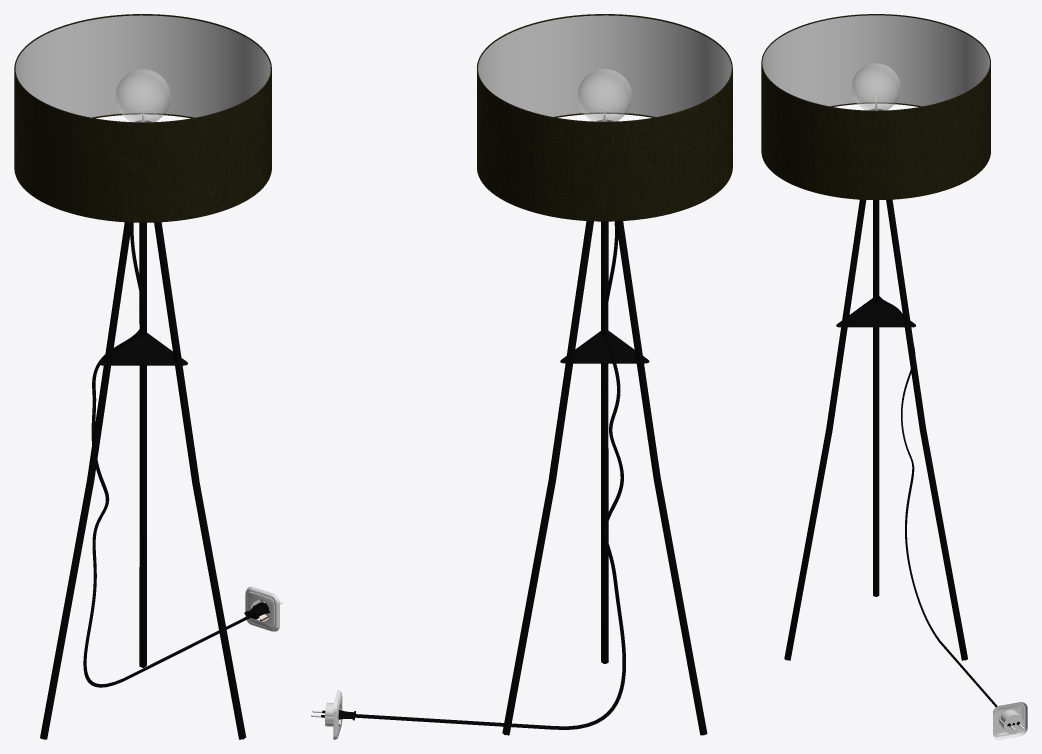
Rendered from floor-lamp-1k.glb.
The picture shows the model from 3 angles, left to right: view 1: azimuth 30°, elevation 25°; view 2: azimuth 150°, elevation 25°; view 3: azimuth 270°, elevation 25°; orthographic projection. The views are drawn at different scales.
Visible parts, largest first — view 1: Lamp-Shade_0, Legs_2, Cable_4, LightBulb_5, Triangle-Leg-Connector_3, Electrical-Plug_6; view 2: Lamp-Shade_0, Legs_2, Cable_4, LightBulb_5, Triangle-Leg-Connector_3; view 3: Lamp-Shade_0, Legs_2, LightBulb_5, Cable_4, Triangle-Leg-Connector_3, Electrical-Plug_6.
Boxes of the visible parts, x1,y1,x2,y2 form: Lamp-Shade_0: (14,14,271,222); Legs_2: (40,222,246,739); Cable_4: (83,222,282,687); LightBulb_5: (115,69,170,122); Triangle-Leg-Connector_3: (98,333,187,365); Electrical-Plug_6: (245,586,279,631); Lamp-Shade_0: (477,14,732,221); Legs_2: (502,221,707,735); Cable_4: (311,221,625,729); LightBulb_5: (577,69,632,121); Triangle-Leg-Connector_3: (560,330,649,363); Lamp-Shade_0: (761,14,990,200); Legs_2: (784,199,967,660); LightBulb_5: (851,63,900,110); Cable_4: (873,200,1023,730); Triangle-Leg-Connector_3: (836,298,915,327); Electrical-Plug_6: (993,702,1027,739).
Bounding box in the file's own units: 0.8295 × 1.6 × 0.6536.
11 materials, 1 textured.
